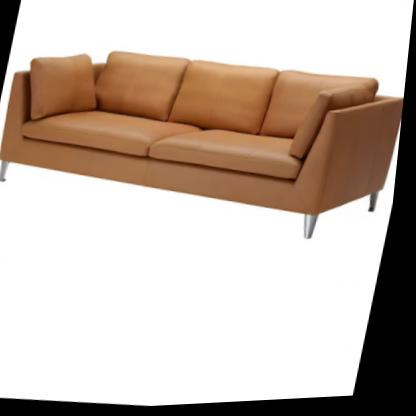Sofa: (0, 23, 413, 268)
